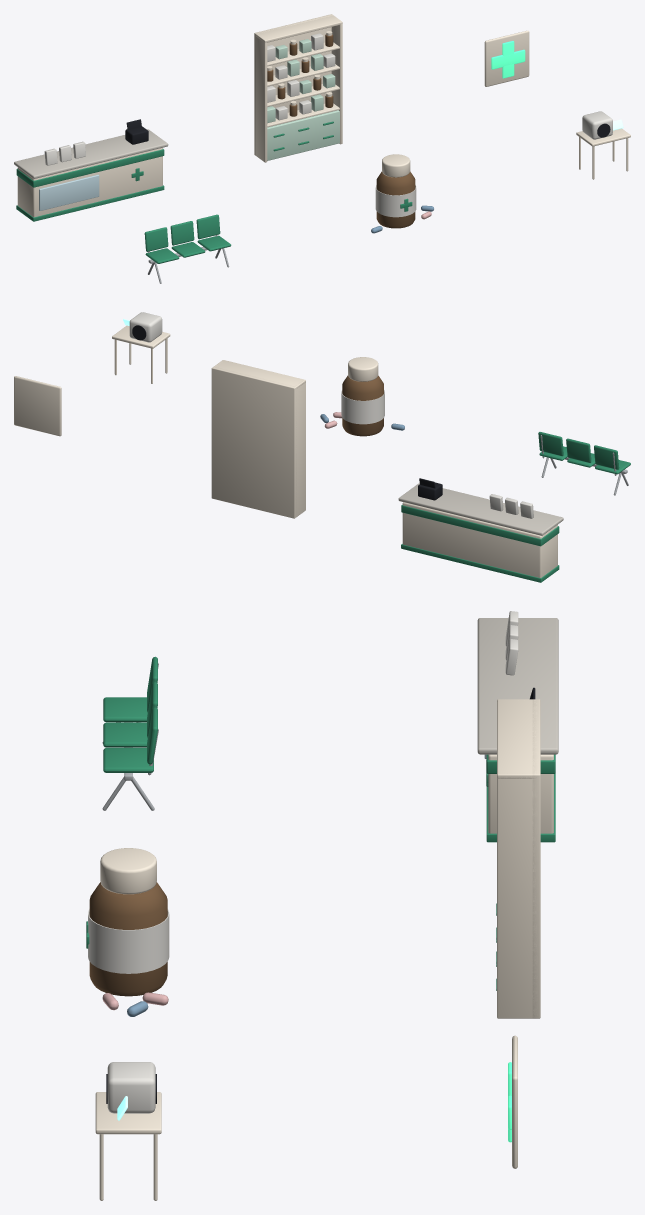
File: pharmacy_set.fbx
The picture shows the model from 3 angles, top to bottom: view 1: azimuth 30°, elevation 25°; view 2: azimuth 150°, elevation 25°; view 3: azimuth 270°, elevation 25°; orthographic projection. The views are drawn at different scales.
Visible parts, largest first — view 1: MedShelf_Frame, PharmCounter_Body, WaitBench_Seats, PharmCounter_Top, MedShelf_Drawers, PharmCounter_Band, PharmCross_Plate, MedShelf_BoxesA, PharmCounter_Glass, MedShelf_BoxesB, PillBottle_Bottle, PillBottle_Label (+7 smaller); view 2: MedShelf_Frame, PharmCounter_Body, PharmCounter_Top, PharmCross_Plate, PharmCounter_Band, WaitBench_Seats, PillBottle_Bottle, PillBottle_Label, BpMachine_Table, PillBottle_Cap, BpMachine_Body, PharmCounter_Bags (+1 smaller); view 3: MedShelf_Frame, PharmCounter_Top, PillBottle_Bottle, WaitBench_Seats, PillBottle_Label, BpMachine_Table, BpMachine_Body, PillBottle_Cap, PharmCounter_Body, PharmCounter_Band.
Part boxes in pixels (bbox=[...]): MedShelf_Frame: bbox=[254, 14, 342, 162]; PharmCounter_Body: bbox=[17, 147, 162, 217]; WaitBench_Seats: bbox=[144, 214, 231, 263]; PharmCounter_Top: bbox=[14, 129, 168, 178]; MedShelf_Drawers: bbox=[267, 110, 339, 160]; PharmCounter_Band: bbox=[16, 149, 164, 221]; PharmCross_Plate: bbox=[484, 30, 529, 86]; MedShelf_BoxesA: bbox=[267, 39, 335, 123]; PharmCounter_Glass: bbox=[39, 174, 99, 210]; MedShelf_BoxesB: bbox=[267, 33, 335, 120]; PillBottle_Bottle: bbox=[376, 171, 415, 228]; PillBottle_Label: bbox=[375, 184, 416, 217]; MedShelf_Frame: bbox=[211, 360, 305, 518]; PharmCounter_Body: bbox=[402, 502, 557, 577]; PharmCounter_Top: bbox=[398, 483, 563, 535]; PharmCross_Plate: bbox=[14, 376, 61, 436]; PharmCounter_Band: bbox=[401, 505, 559, 582]; WaitBench_Seats: bbox=[538, 432, 630, 474]; PillBottle_Bottle: bbox=[342, 375, 383, 436]; PillBottle_Label: bbox=[341, 390, 384, 424]; BpMachine_Table: bbox=[112, 325, 170, 383]; PillBottle_Cap: bbox=[348, 357, 378, 381]; BpMachine_Body: bbox=[129, 312, 162, 342]; PharmCounter_Bags: bbox=[489, 494, 533, 518]; MedShelf_Frame: bbox=[497, 699, 540, 1018]; PharmCounter_Top: bbox=[477, 618, 558, 754]; PillBottle_Bottle: bbox=[89, 882, 167, 996]; WaitBench_Seats: bbox=[103, 656, 157, 772]; PillBottle_Label: bbox=[88, 909, 169, 973]; BpMachine_Table: bbox=[95, 1092, 161, 1200]; BpMachine_Body: bbox=[107, 1062, 155, 1113]; PillBottle_Cap: bbox=[100, 848, 156, 894]; PharmCounter_Body: bbox=[488, 754, 553, 833]; PharmCounter_Band: bbox=[486, 754, 555, 842].
Bounding box in the file's own units: 38.9 × 9.02 × 15.76.
